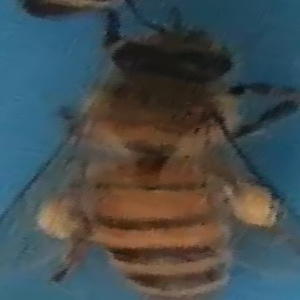bee: (22, 19, 295, 299)
